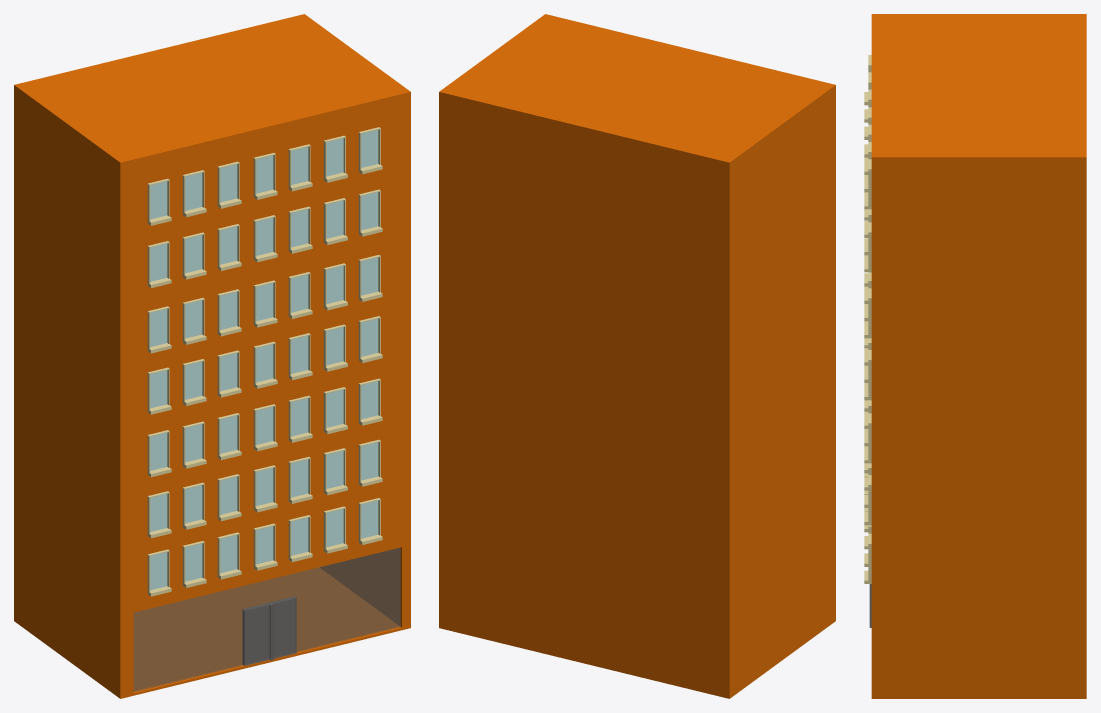
File: shittyBuilding.fbx
3 views of the same model, side by side, from view 1: azimuth 30°, elevation 25°; view 2: azimuth 150°, elevation 25°; view 3: azimuth 270°, elevation 25° (orthographic).
Visible parts, largest first — view 1: pCube60; view 2: pCube60; view 3: pCube60.
Boxes of the visible parts, box(x1,y1,x2,y2) form: pCube60: box(14, 14, 410, 698); pCube60: box(439, 14, 835, 698); pCube60: box(864, 14, 1086, 698).
Size of the model in its own units: 0.000338 by 0.000596 by 0.000221.
